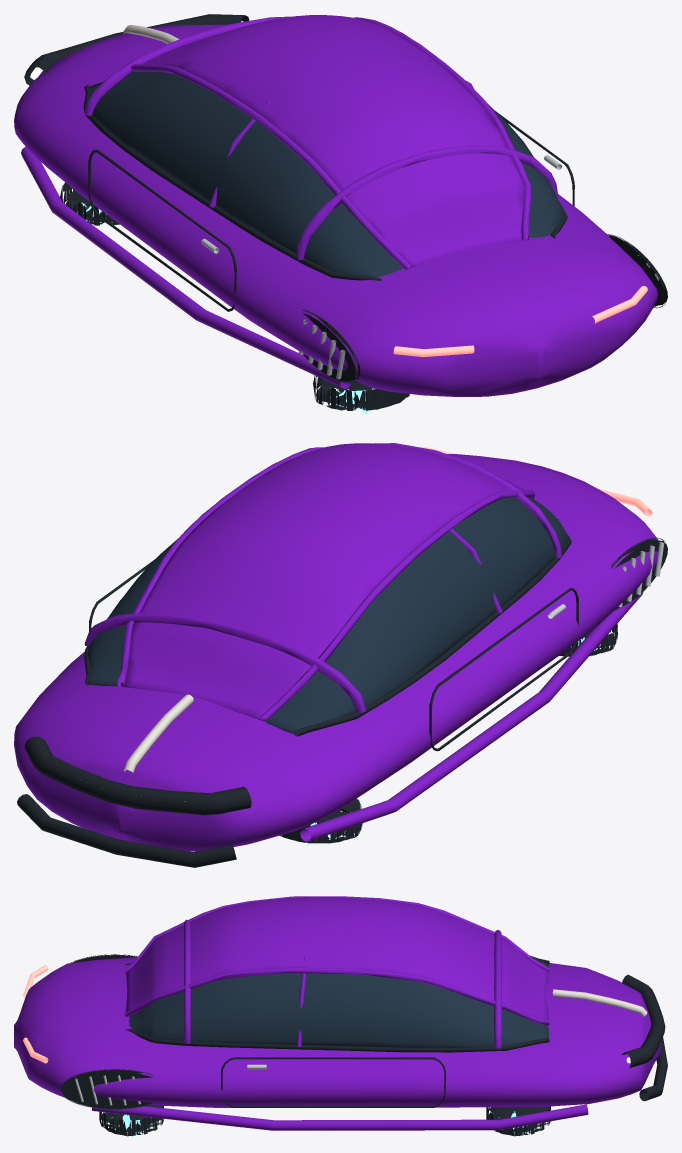
Rendered from car_4.glb.
3 renders of one model, top to bottom at view 1: azimuth 30°, elevation 25°; view 2: azimuth 150°, elevation 25°; view 3: azimuth 270°, elevation 25°, orthographic. The views are drawn at different scales.
Parts seen in each view (by area): view 1: body; view 2: body; view 3: body.
Boxes of the visible parts, x1,y1,x2,y2 form: body: [14, 14, 667, 414]; body: [14, 443, 667, 867]; body: [14, 896, 667, 1138].
Size of the model in its own units: 1.97 by 1.31 by 4.14.
